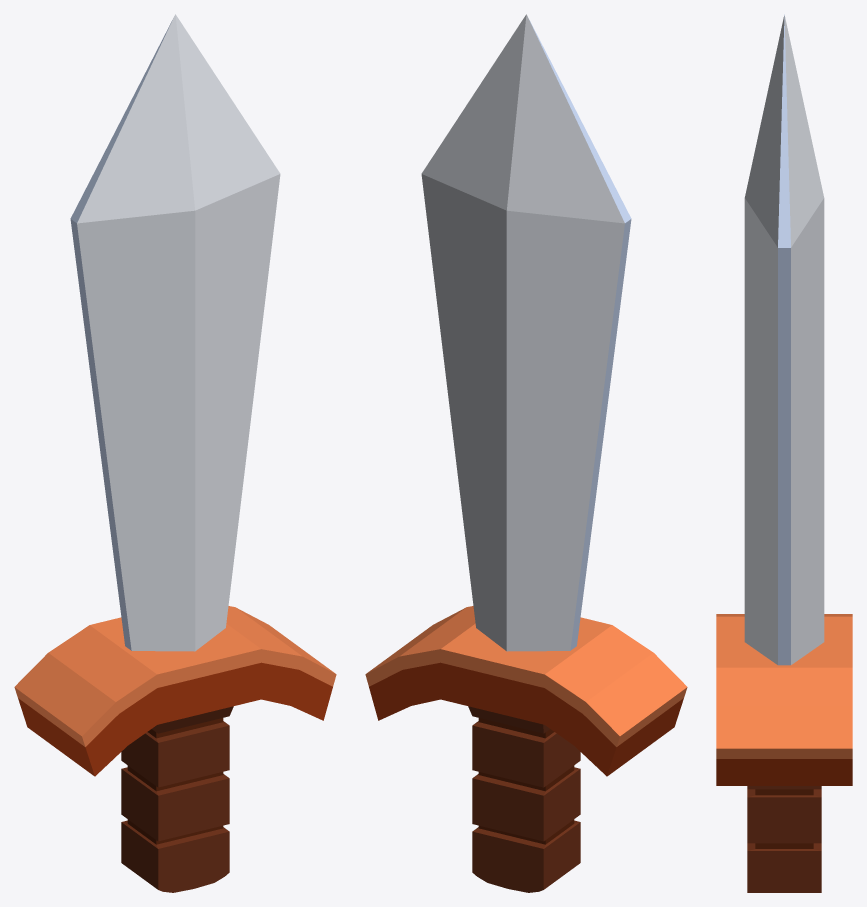
File: SmallSword.fbx
3 views of the same model, side by side, from view 1: azimuth 30°, elevation 25°; view 2: azimuth 150°, elevation 25°; view 3: azimuth 270°, elevation 25° (orthographic).
Visible parts, largest first — view 1: SmallSword; view 2: SmallSword; view 3: SmallSword.
Boxes of the visible parts, x1,y1,x2,y2 form: SmallSword: (14, 14, 336, 892); SmallSword: (365, 14, 687, 892); SmallSword: (716, 14, 852, 892).
Size of the model in its own units: 16.01 by 51.75 by 7.36.
